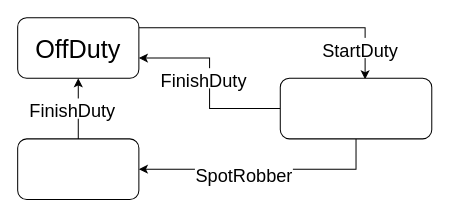
The diagram is 449 pixels wide and 217 high, and some of its shapes have lost their labels. Here are the shapes that lost their labels. From the top down, the box of each, then its label:
(279, 77, 432, 139): OnStakeOut
(17, 138, 139, 199): Chasing
